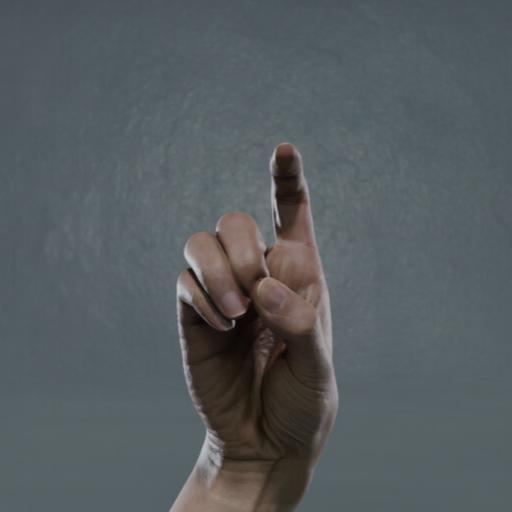X: (141, 124, 413, 512)
